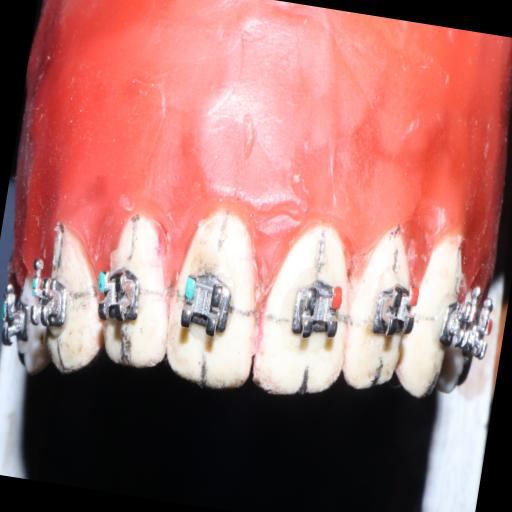incorrect_brace: (172, 260, 242, 346), (284, 274, 345, 350)
